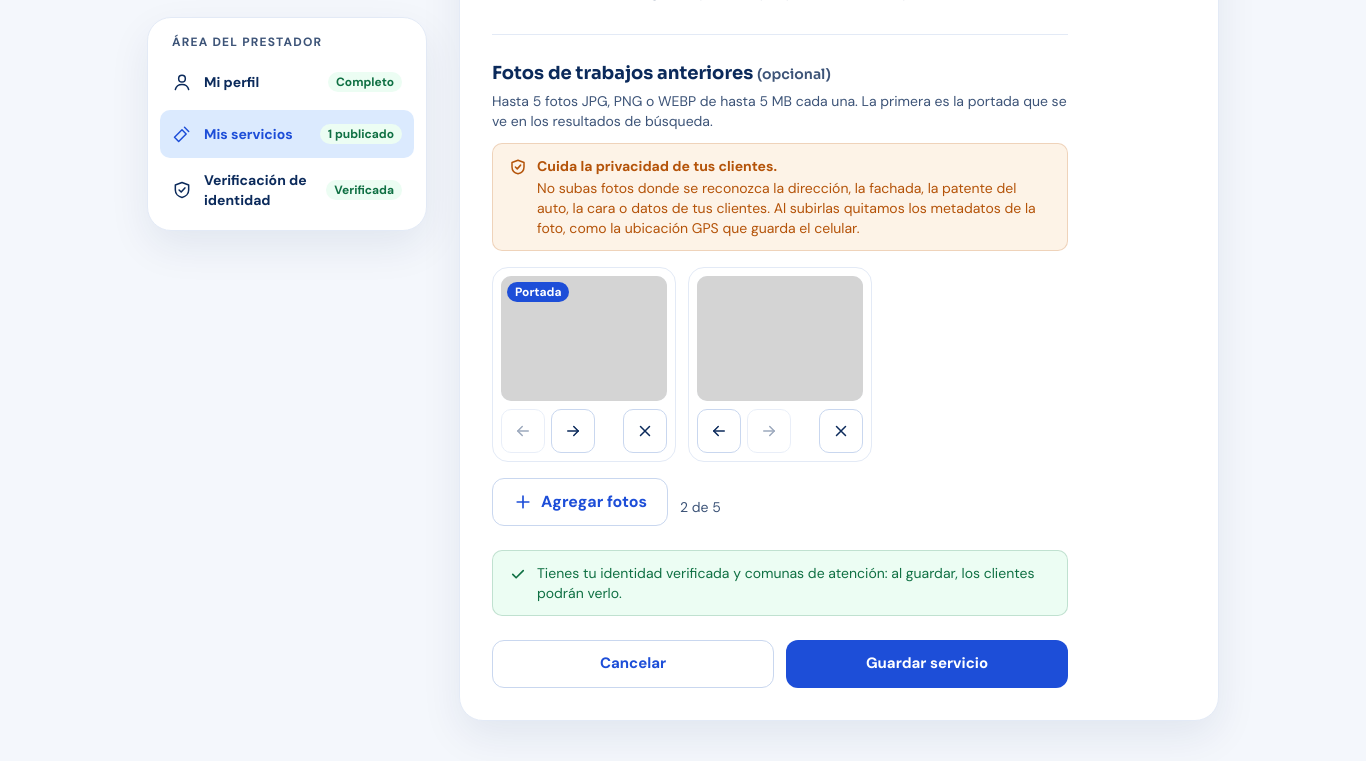
Test: Fotos en el formulario de servicio (editar) › elimina una foto
(page scrolled)
Click the button named "Eliminar la foto 1".
click(645, 430)  # box x1=623 y1=408 x2=667 y2=452
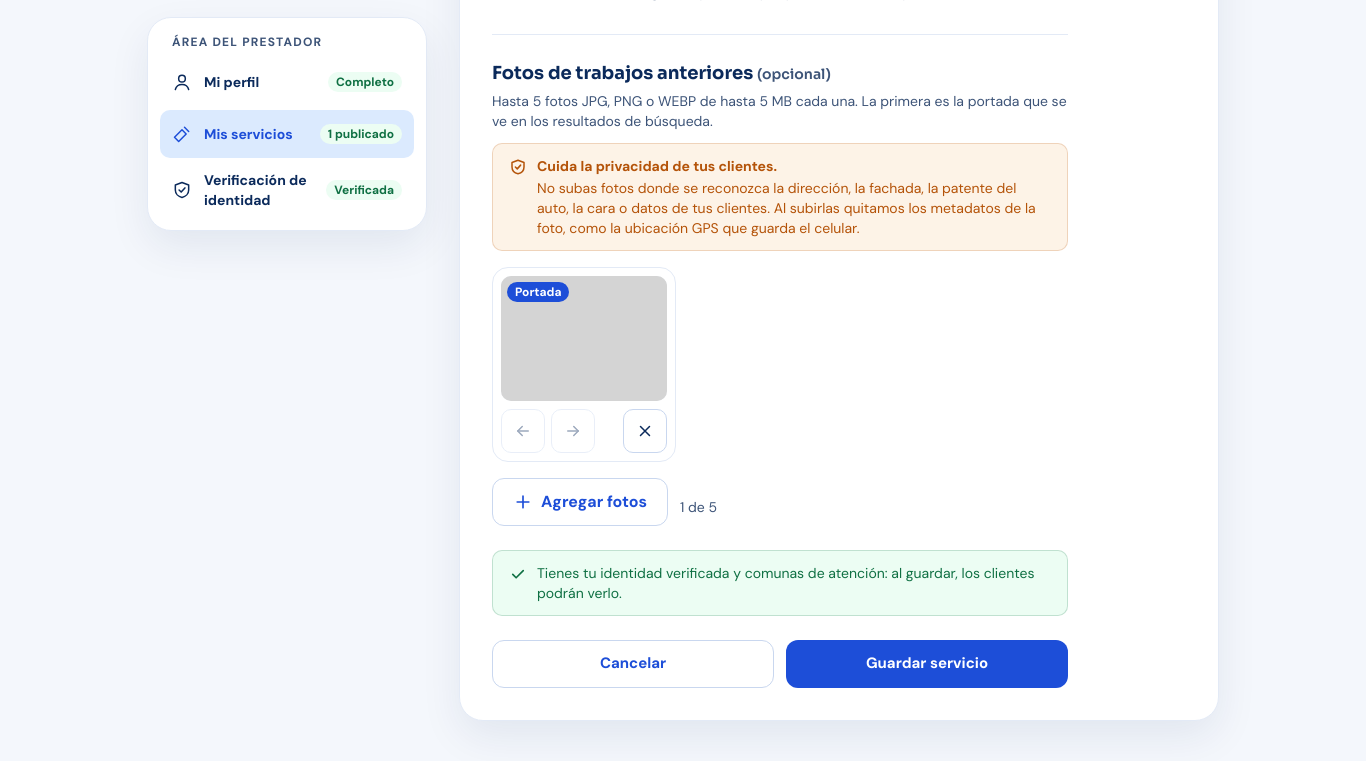
Check: the text "1 de 5" is shown, box x1=680 y1=498 x2=717 y2=516
